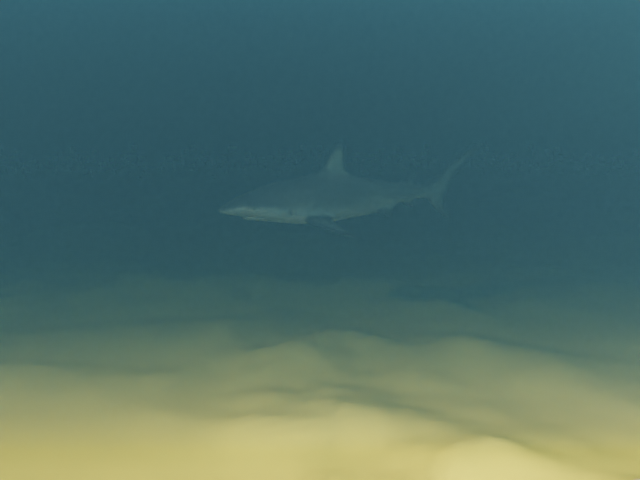Carribean Shark.001: (218, 143, 482, 237)
